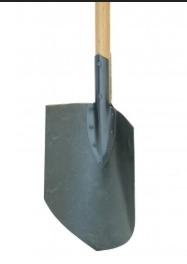PELLE: (21, 2, 159, 264)
